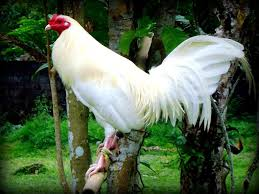chicken: (17, 2, 257, 181)
